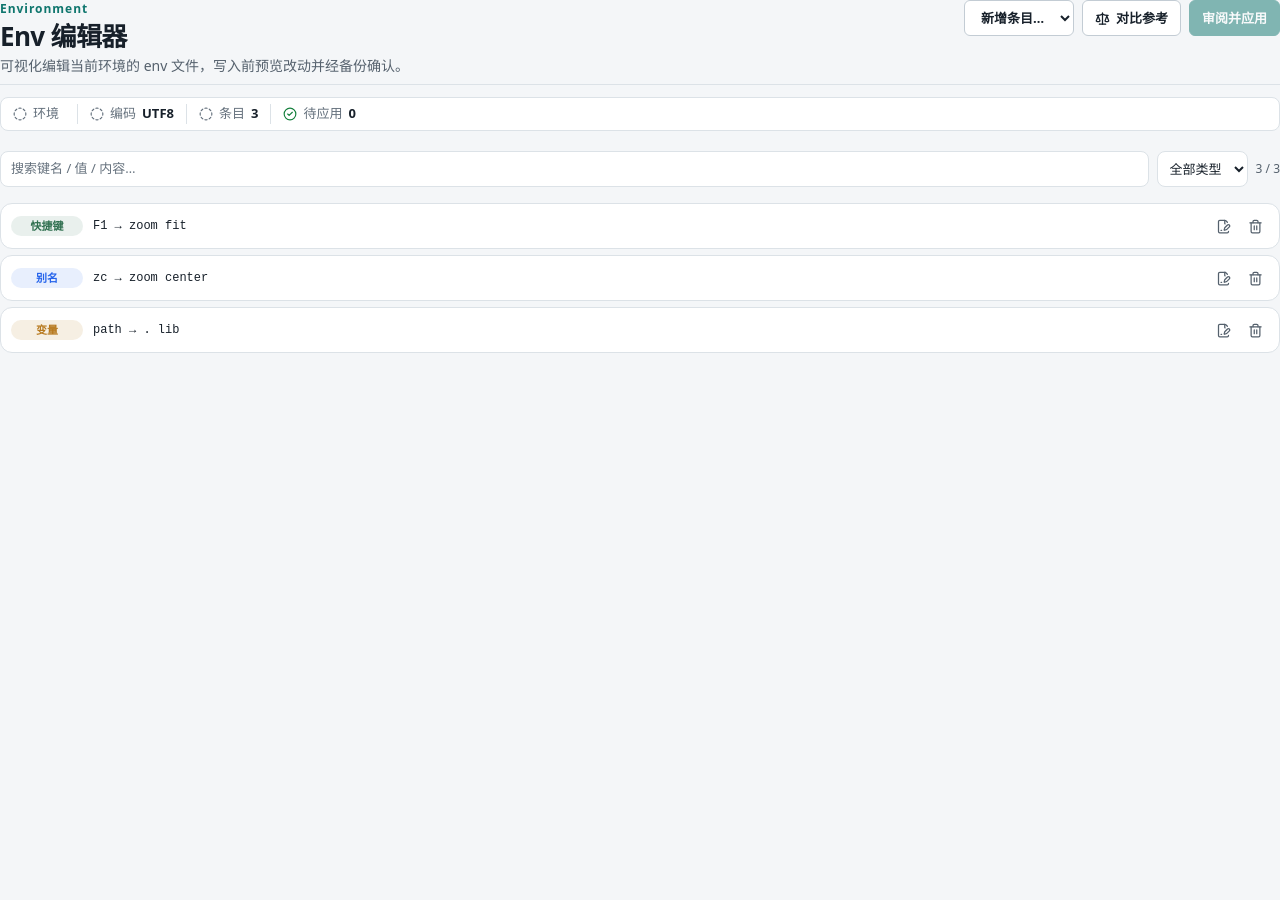
Test: EnvEditorPage - 对比参考 › 点击「对比参考」应打开弹窗并展示差异
expect the number of list items with class "env-editor-row" is 3: met, box [0,203,1279,249]; [0,255,1279,301]; [0,307,1279,353]
Click the button "对比参考".
click(1132, 18)  # box [1082,0,1181,36]
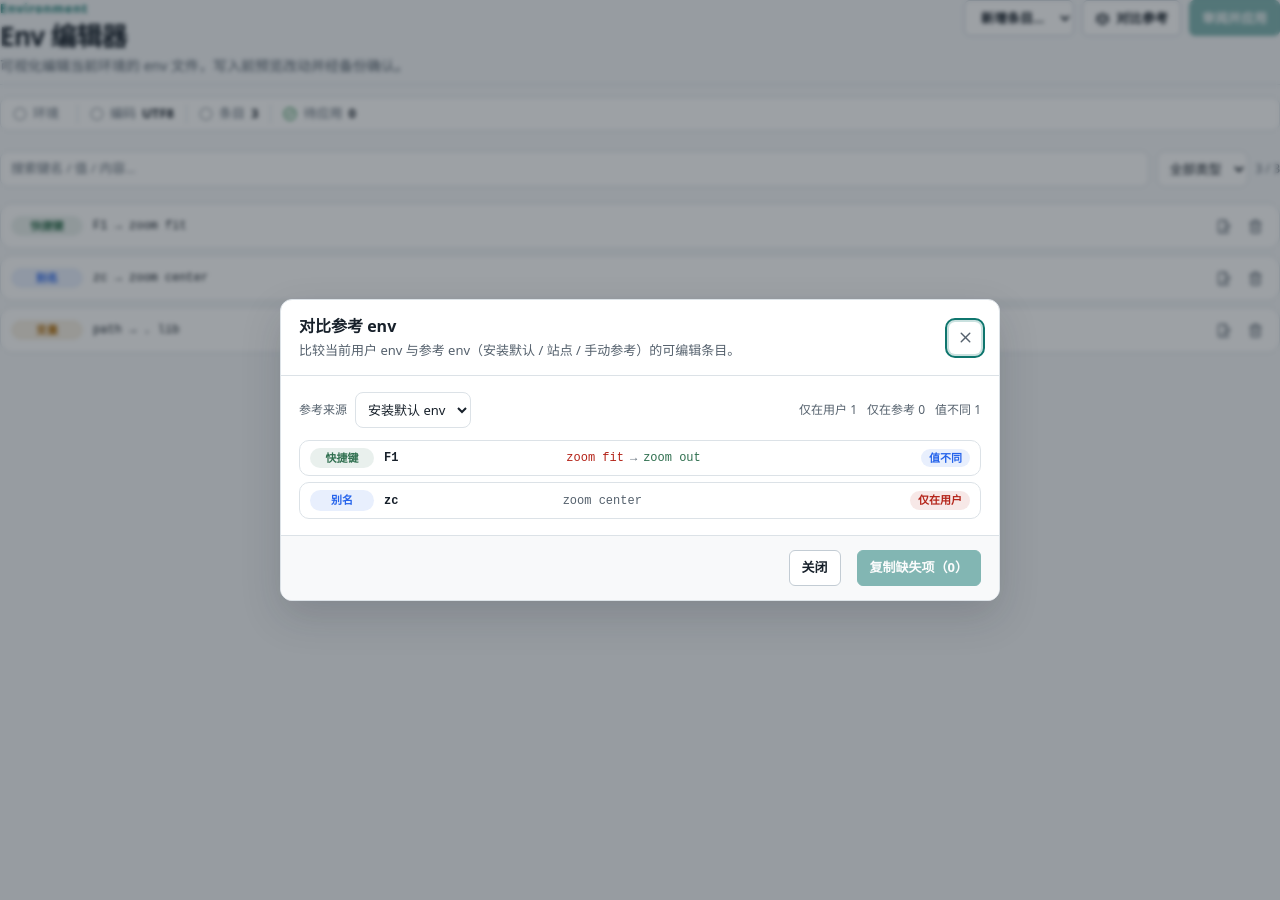
expect the heading "对比参考 env" is shown: met, box [299,315,396,337]
expect the number of elements with class "env-compare-row" is 2: met, box [299,440,981,476]; [299,482,981,519]
expect the text "仅在用户 1" is shown: met, box [799,401,857,419]
